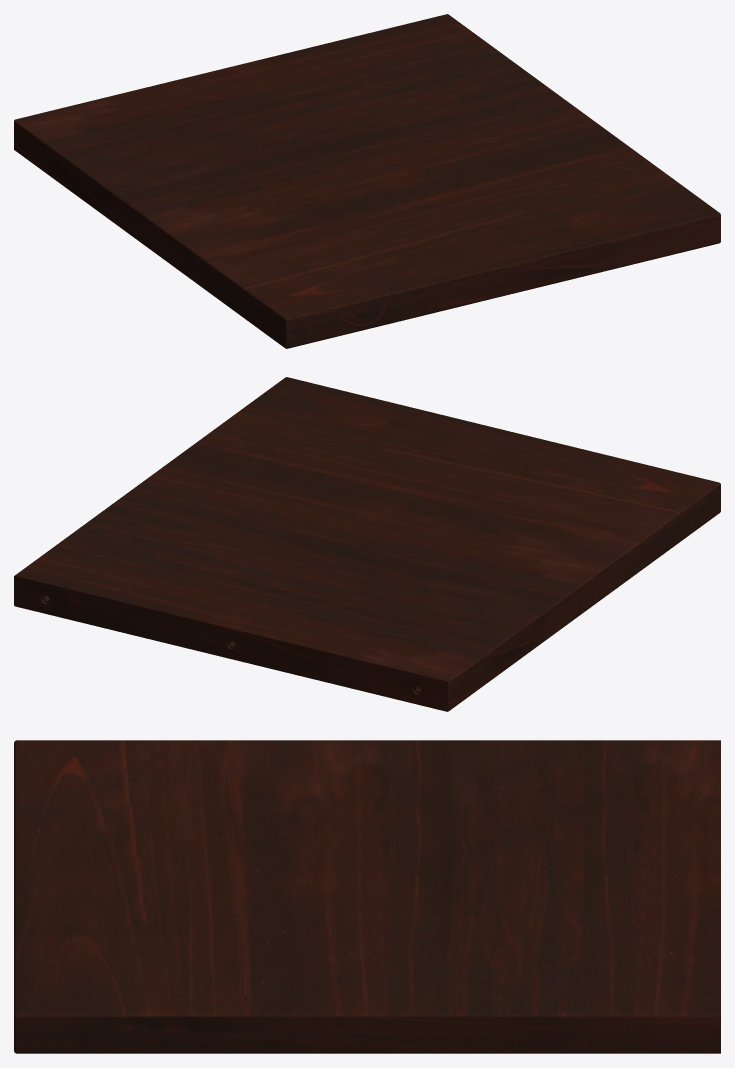
The model's file is example61.glb.
3 views of the same model, one above another, from view 1: azimuth 30°, elevation 25°; view 2: azimuth 150°, elevation 25°; view 3: azimuth 270°, elevation 25° (orthographic). The views are drawn at different scales.
Parts seen in each view (by area): view 1: Buffer Layer; view 2: Buffer Layer; view 3: Buffer Layer.
Boxes of the visible parts, <box> form: Buffer Layer: <box>14,14,720,348</box>; Buffer Layer: <box>14,377,720,711</box>; Buffer Layer: <box>14,740,720,1053</box>.
Size of the model in its own units: 0.5 by 0.0333 by 0.5417.
1 material, 1 textured.
